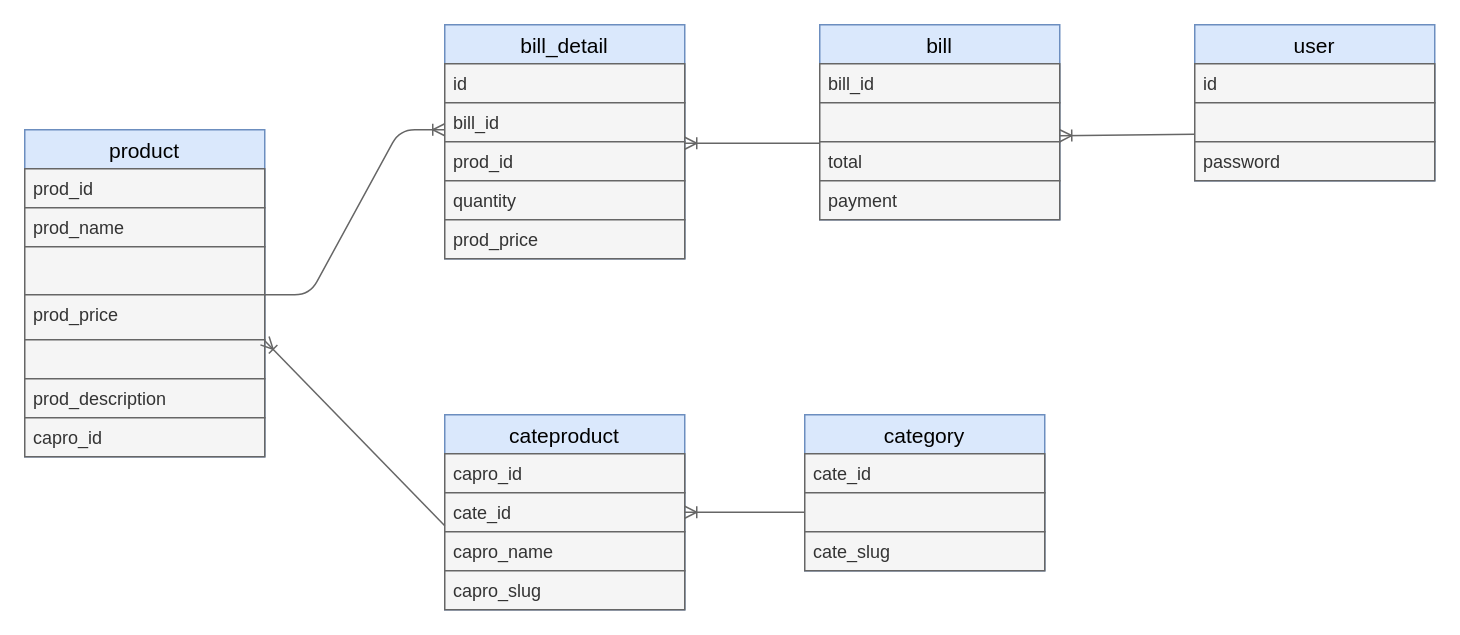
This 1460x635 diagram has some shape labels left out. The centre of each missing label's shape, as x and y in pixels:
"cate_name" belongs at point (924, 511).
"email" belongs at point (1314, 121).
"id_user" belongs at point (939, 121).
"prod_image" belongs at point (144, 358).
"prod_slug" belongs at point (144, 270).
